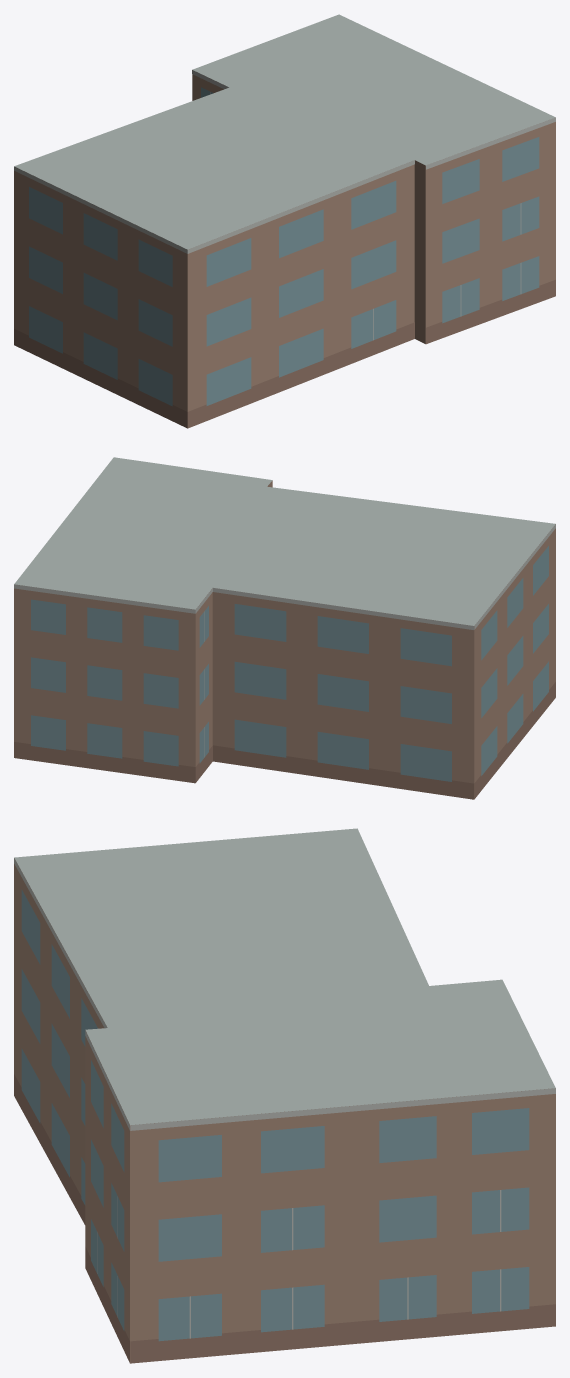
The model's file is survey-upis-32967357.glb.
3 views of the same model, one above another, from view 1: azimuth 30°, elevation 25°; view 2: azimuth 150°, elevation 25°; view 3: azimuth 270°, elevation 25° (orthographic). The views are drawn at different scales.
Parts seen in each view (by area): view 1: survey-upis-32967357.tmp; view 2: survey-upis-32967357.tmp; view 3: survey-upis-32967357.tmp.
Boxes of the visible parts, box(x1,y1,x2,y2) form: survey-upis-32967357.tmp: box(14, 14, 555, 428); survey-upis-32967357.tmp: box(14, 457, 555, 799); survey-upis-32967357.tmp: box(14, 828, 555, 1363).
Size of the model in its own units: 27.04 by 10.12 by 20.86.
